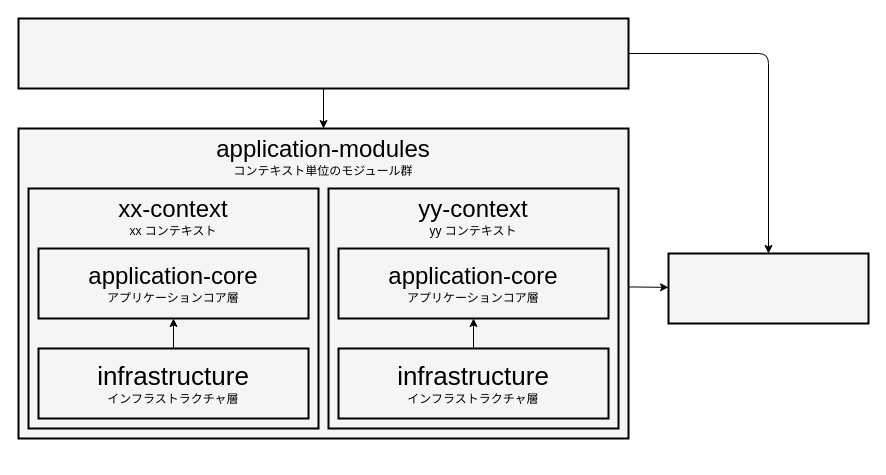
This 886x475 diagram has some shape labels left out. The centre of each missing label's shape, as x and y in pixels:
"system-common システム共通機能" belongs at point 768,288.
"web / batch プレゼンテーション層" belongs at point 323,53.
